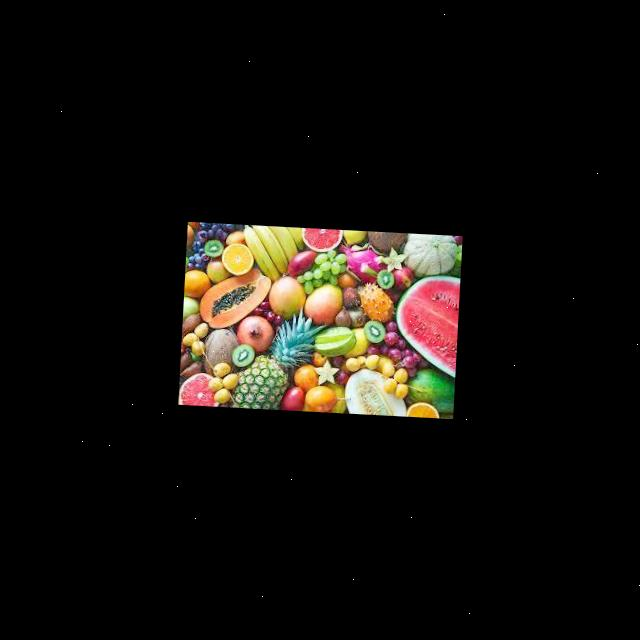watermelon: (393, 271, 460, 378)
